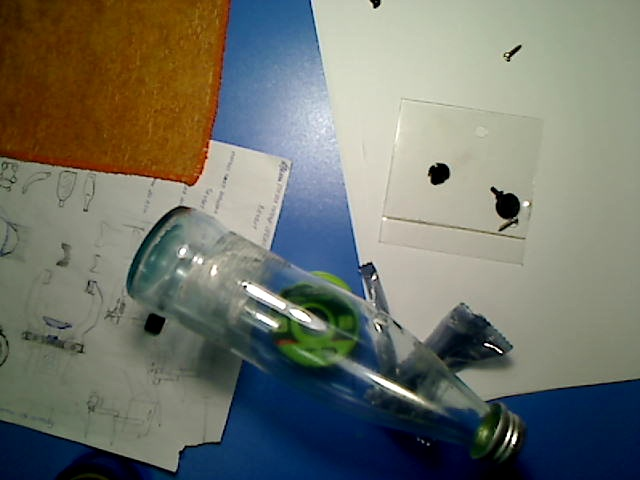bottle: (125, 205, 527, 464)
